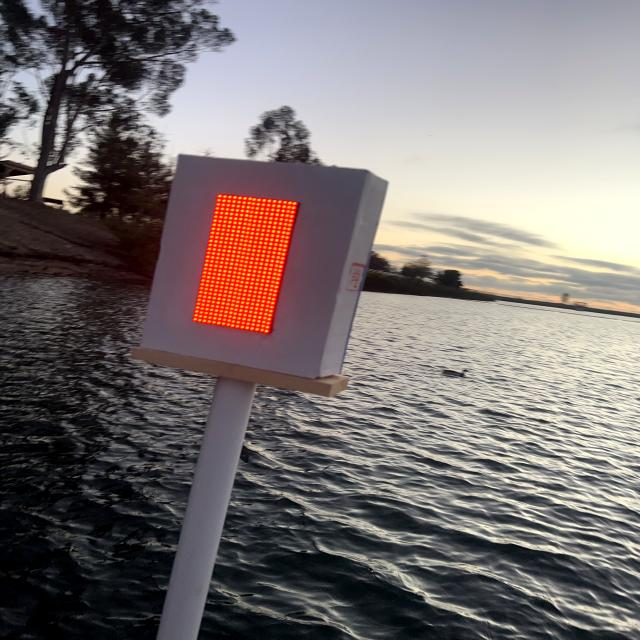led: (172, 166, 321, 350)
